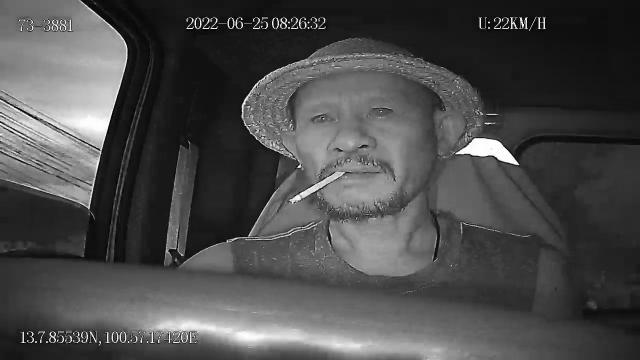SafeDriving: (362, 96, 402, 122), (303, 103, 341, 128)
Smoking: (291, 170, 349, 207)
